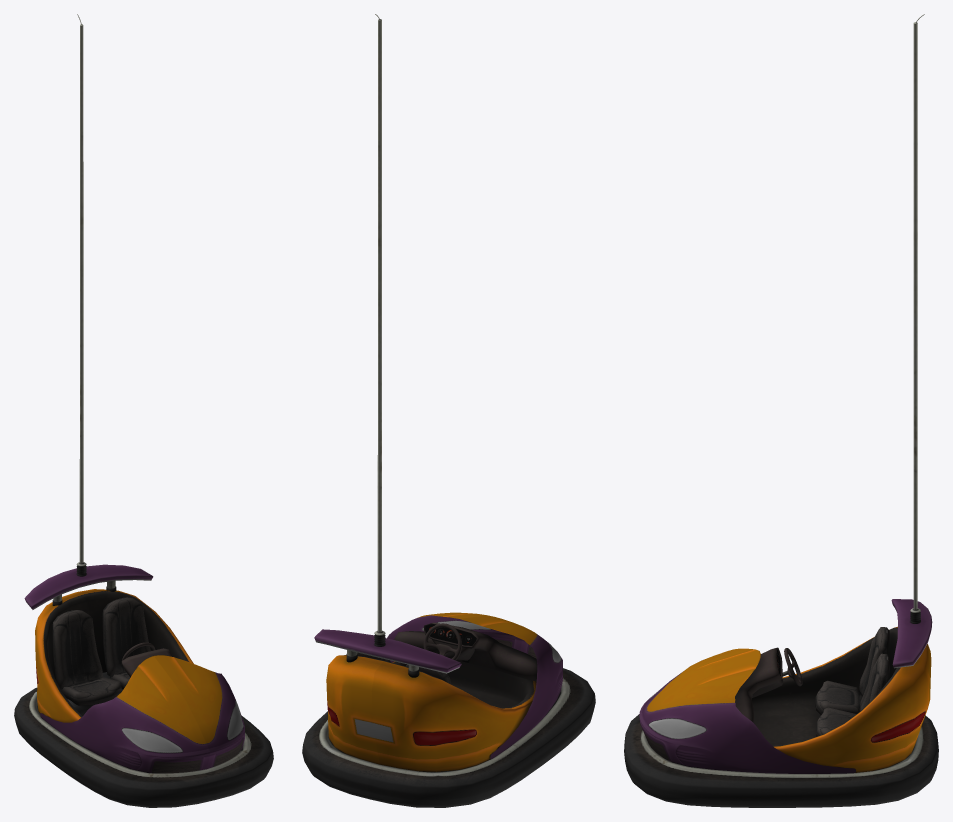
Rendered from CarroNaranja.obj.
The picture shows the model from 3 angles, left to right: view 1: azimuth 30°, elevation 25°; view 2: azimuth 150°, elevation 25°; view 3: azimuth 270°, elevation 25°; orthographic projection. The views are drawn at different scales.
Visible parts, largest first — view 1: bumpercar; view 2: bumpercar; view 3: bumpercar.
Part boxes in pixels (bbox=[...]): bumpercar: bbox=[14, 14, 273, 807]; bumpercar: bbox=[302, 14, 595, 807]; bumpercar: bbox=[624, 14, 938, 807].
Size of the model in its own units: 6.37 by 23.65 by 9.01.
